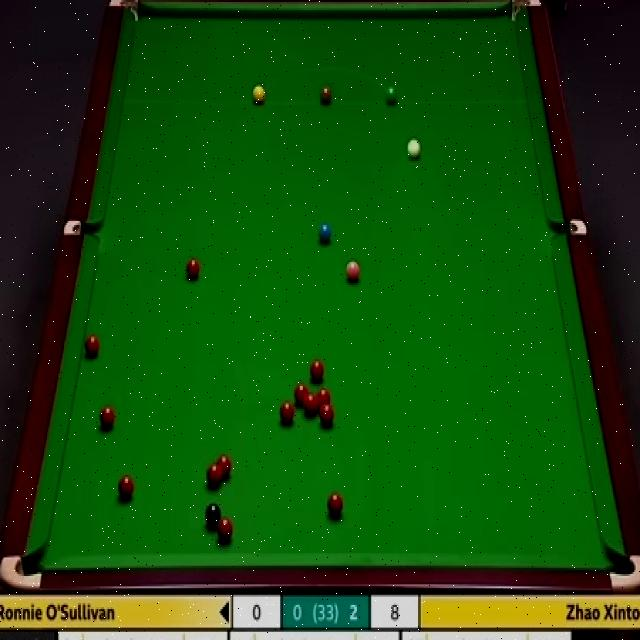black-ball: (204, 500, 223, 532)
blue-ball: (318, 221, 334, 246)
brown-ball: (319, 85, 333, 106)
green-ball: (384, 85, 399, 107)
pink-ball: (344, 256, 363, 284)
red-ball: (216, 518, 235, 546), (204, 463, 224, 489), (98, 403, 115, 432), (117, 474, 135, 501), (83, 332, 100, 359), (308, 358, 326, 383), (302, 393, 319, 418), (278, 401, 295, 425), (327, 493, 343, 518), (185, 257, 202, 280), (292, 383, 310, 404), (217, 454, 233, 476), (320, 402, 334, 426), (316, 388, 332, 407)
white-ball: (407, 136, 422, 163)
yellow-ball: (252, 84, 266, 106)
